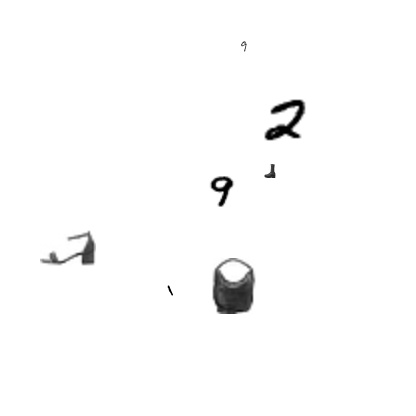1: (242, 271, 298, 327)
3: (294, 298, 350, 354), (151, 332, 173, 354)
4: (31, 331, 59, 359)
7: (117, 51, 173, 107)
9: (262, 213, 318, 269)
Bag: (41, 273, 97, 329)
Coat: (198, 70, 220, 92)
